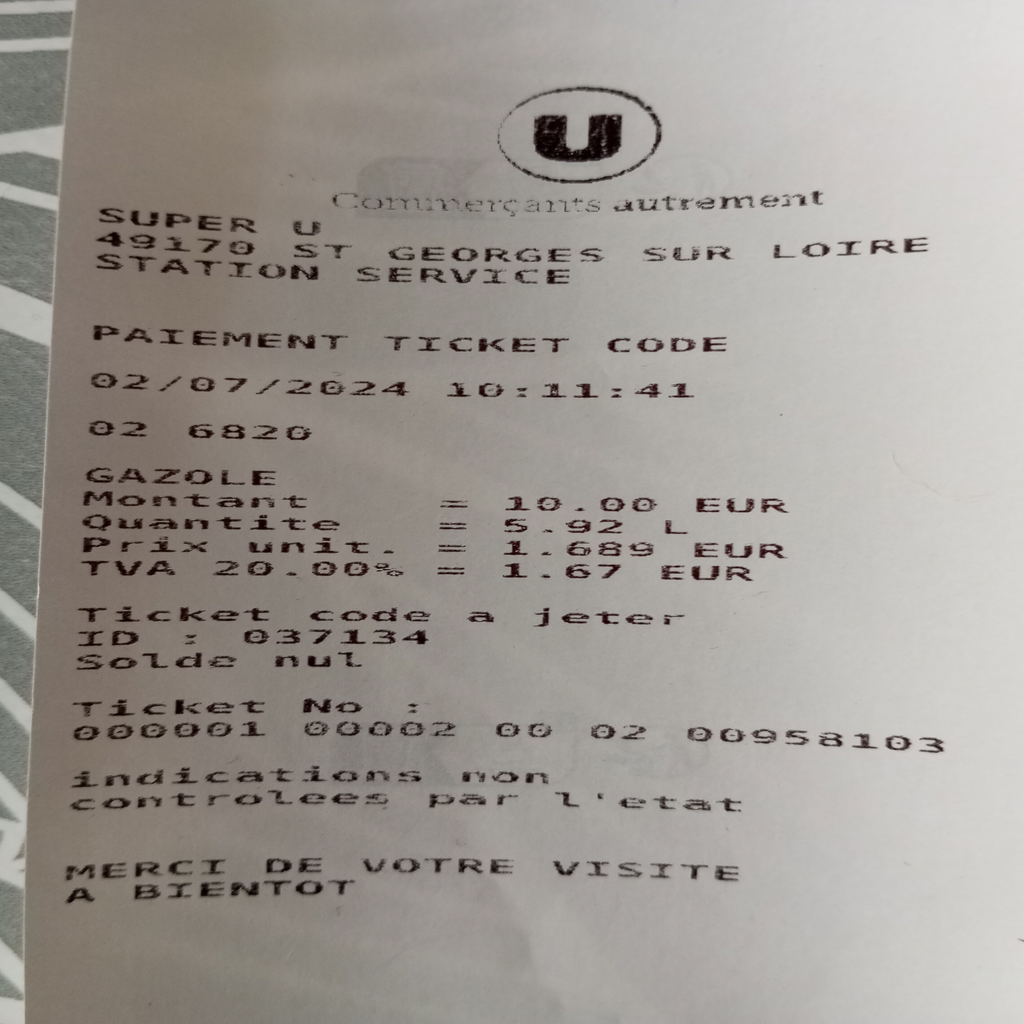recipt: (23, 8, 1007, 1001)
